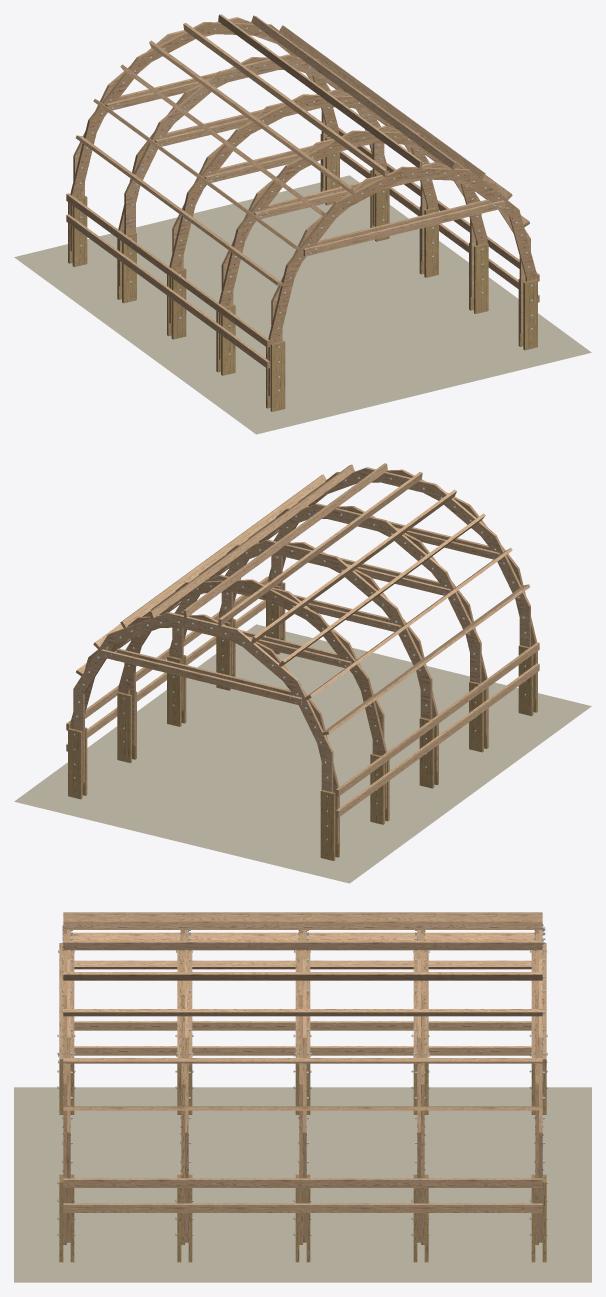
The model's file is frame-photo.glb.
3 views of the same model, one above another, from view 1: azimuth 30°, elevation 25°; view 2: azimuth 150°, elevation 25°; view 3: azimuth 270°, elevation 25° (orthographic). The views are drawn at different scales.
Visible parts, largest first — view 1: lightmapped, greenhouse; view 2: lightmapped, greenhouse; view 3: lightmapped, greenhouse.
Boxes of the visible parts, x1,y1,x2,y2 form: lightmapped: (14, 14, 591, 434); greenhouse: (79, 27, 532, 391); lightmapped: (14, 463, 591, 883); greenhouse: (73, 474, 528, 840); lightmapped: (14, 912, 591, 1282); greenhouse: (57, 924, 547, 1235).
Size of the model in its own units: 4.7 by 2.85 by 5.88.
8 materials, 7 textured.
